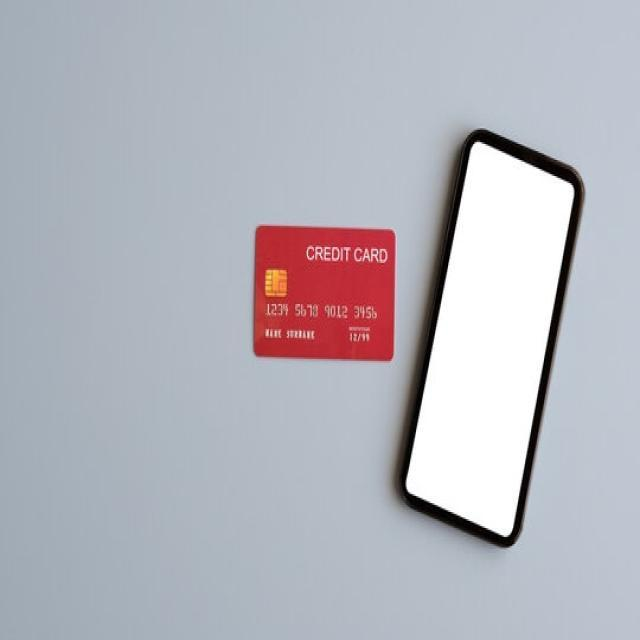payment_card: (252, 223, 396, 361)
